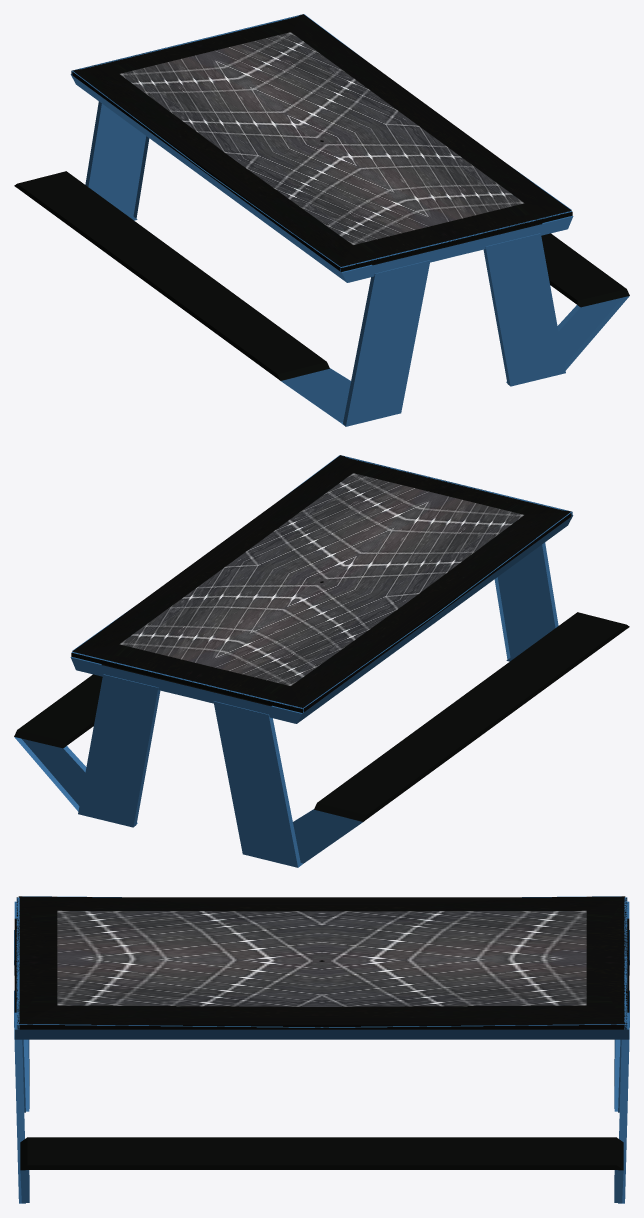
Rendered from deskcharging.fbx.
The picture shows the model from 3 angles, top to bottom: view 1: azimuth 30°, elevation 25°; view 2: azimuth 150°, elevation 25°; view 3: azimuth 270°, elevation 25°; orthographic projection. The views are drawn at different scales.
Parts seen in each view (by area): view 1: Outside_Desk_Tisch; view 2: Outside_Desk_Tisch; view 3: Outside_Desk_Tisch.
Boxes of the visible parts, x1,y1,x2,y2 form: Outside_Desk_Tisch: (14,14,629,426); Outside_Desk_Tisch: (14,455,629,867); Outside_Desk_Tisch: (14,896,629,1203).
Bounding box in the file's own units: 604 × 270 × 815.
Materials: 4 (4 with a texture image).
